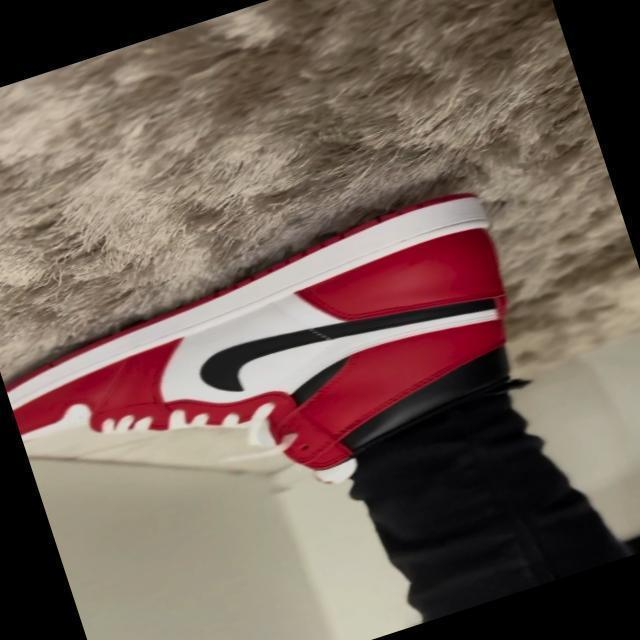nike original jordan 1: (0, 176, 548, 552)
